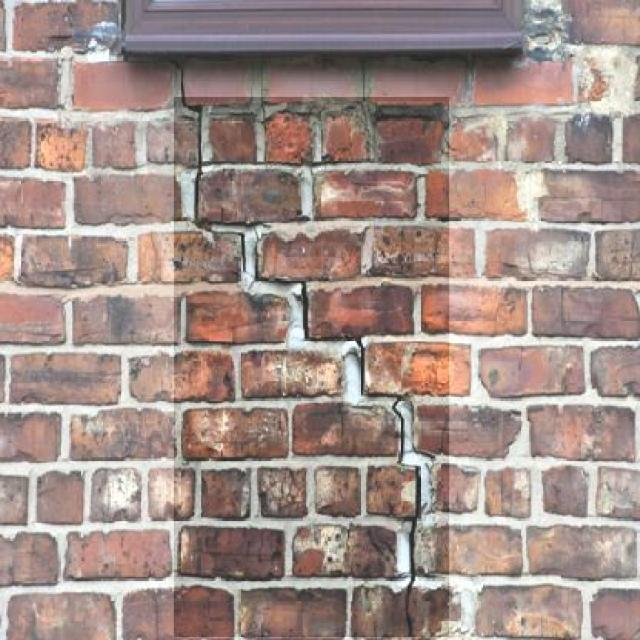Crack: (178, 96, 449, 640)
